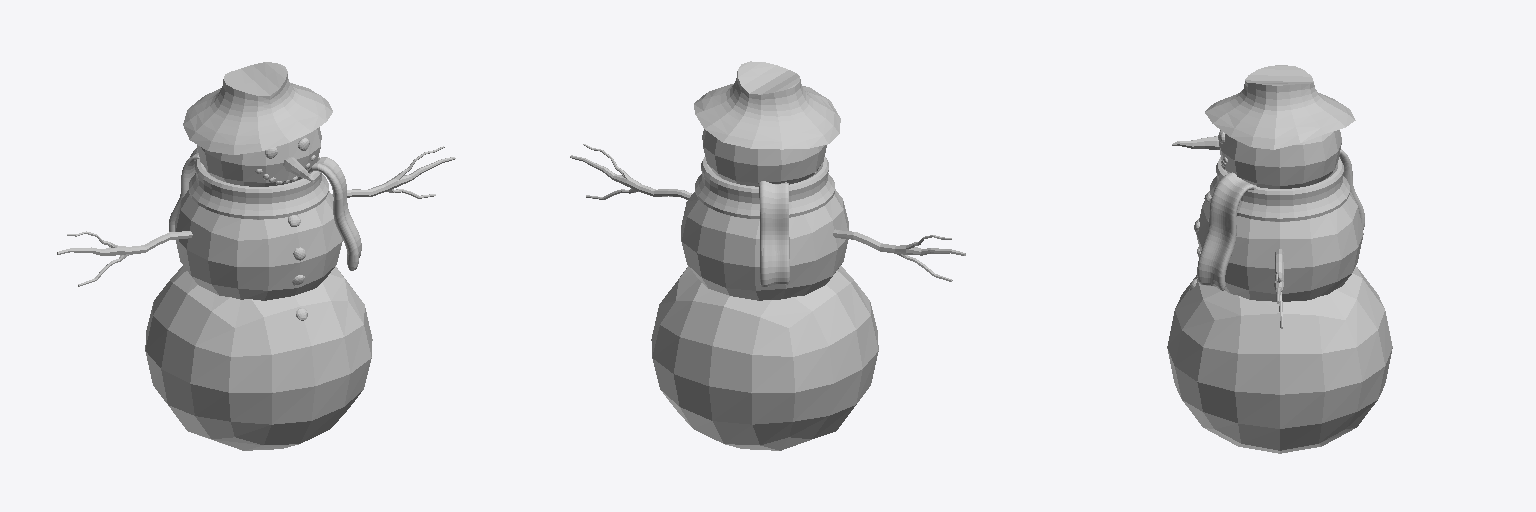
The model's file is Snowman.obj.
3 renders of one model, left to right at view 1: azimuth 30°, elevation 25°; view 2: azimuth 150°, elevation 25°; view 3: azimuth 270°, elevation 25°, orthographic.
Parts seen in each view (by area): view 1: Snowman:pCube27 polySurface48, Snowman:pCube27 polySurface47, Snowman:pCube27 polySurface3, Snowman:pCube27 polySurface24, Snowman:pCube27 polySurface25, Snowman:pCube27 polySurface23, polySurface49, polySurface45, Snowman:pCube27 polySurface18; view 2: Snowman:pCube27 polySurface48, Snowman:pCube27 polySurface47, Snowman:pCube27 polySurface3, Snowman:pCube27 polySurface25, Snowman:pCube27 polySurface24, Snowman:pCube27 polySurface18, polySurface49, polySurface45; view 3: Snowman:pCube27 polySurface48, Snowman:pCube27 polySurface47, Snowman:pCube27 polySurface3, Snowman:pCube27 polySurface25, Snowman:pCube27 polySurface24, Snowman:pCube27 polySurface23.
Boxes of the visible parts, box(x1,y1,x2,y2) form: Snowman:pCube27 polySurface48: box(145, 266, 372, 450); Snowman:pCube27 polySurface47: box(175, 172, 342, 300); Snowman:pCube27 polySurface3: box(183, 62, 332, 154); Snowman:pCube27 polySurface24: box(189, 157, 328, 219); Snowman:pCube27 polySurface25: box(197, 127, 321, 186); Snowman:pCube27 polySurface23: box(309, 157, 361, 270); polySurface49: box(57, 231, 192, 286); polySurface45: box(332, 146, 455, 198); Snowman:pCube27 polySurface18: box(169, 148, 199, 231); Snowman:pCube27 polySurface48: box(651, 266, 878, 450); Snowman:pCube27 polySurface47: box(681, 172, 848, 300); Snowman:pCube27 polySurface3: box(694, 61, 840, 149); Snowman:pCube27 polySurface25: box(702, 129, 826, 186); Snowman:pCube27 polySurface24: box(695, 157, 834, 218); Snowman:pCube27 polySurface18: box(759, 181, 789, 286); polySurface49: box(833, 229, 965, 281); polySurface45: box(570, 144, 691, 199); Snowman:pCube27 polySurface48: box(1167, 267, 1392, 453); Snowman:pCube27 polySurface47: box(1196, 192, 1363, 301); Snowman:pCube27 polySurface3: box(1205, 65, 1355, 149); Snowman:pCube27 polySurface25: box(1219, 130, 1341, 188); Snowman:pCube27 polySurface24: box(1210, 157, 1349, 221); Snowman:pCube27 polySurface23: box(1197, 172, 1256, 290).
Bounding box in the file's own units: 6.73 × 5.97 × 3.32.